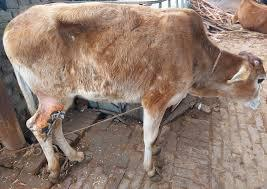fracture: (16, 91, 83, 187)
